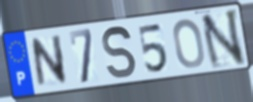5: (136, 21, 169, 75)
7: (68, 27, 95, 87)
N: (198, 7, 247, 71), (30, 33, 70, 91)
O: (171, 17, 207, 70)
S: (101, 25, 139, 81)
